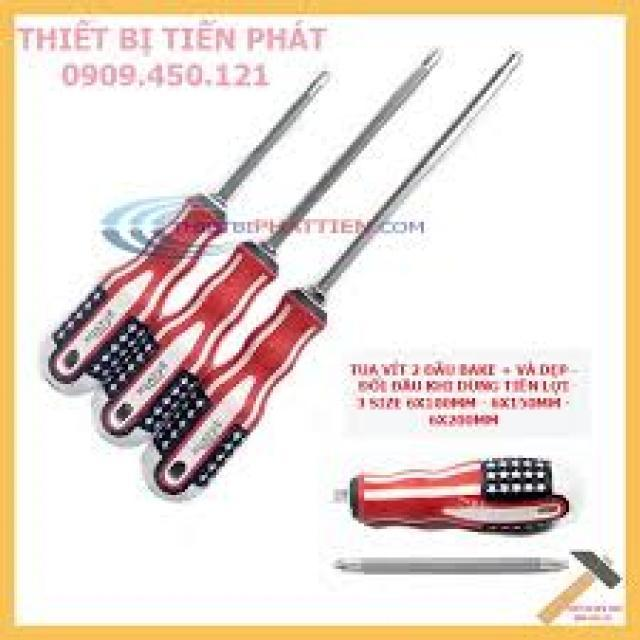screwdriver: (134, 40, 524, 512), (86, 42, 450, 456), (31, 67, 336, 400)
